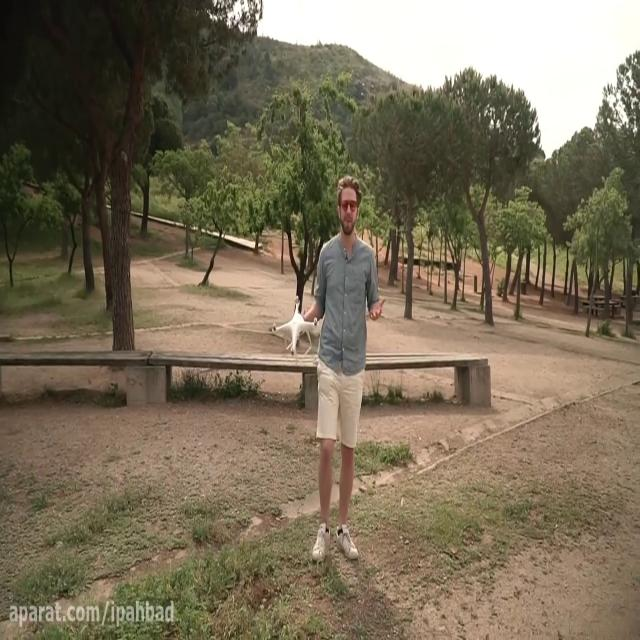drone: (271, 294, 319, 358)
